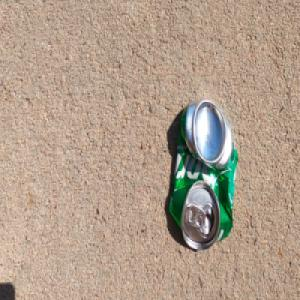SodaCan: (168, 97, 239, 251)
